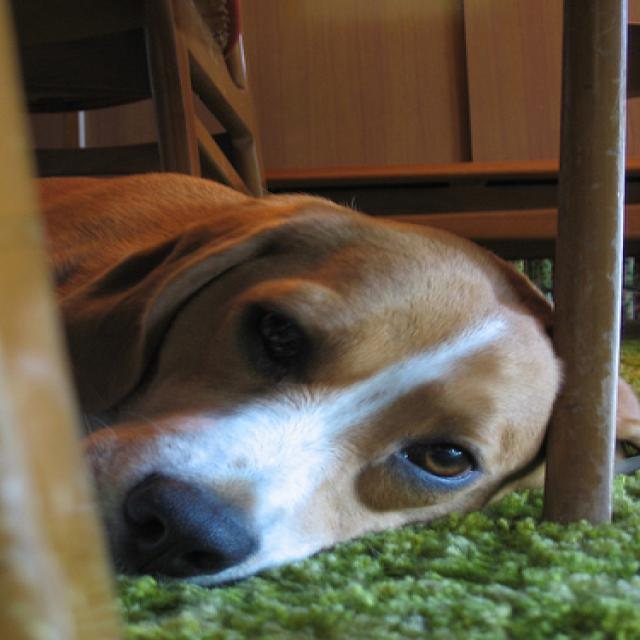dog-beagle: (26, 163, 567, 598)
